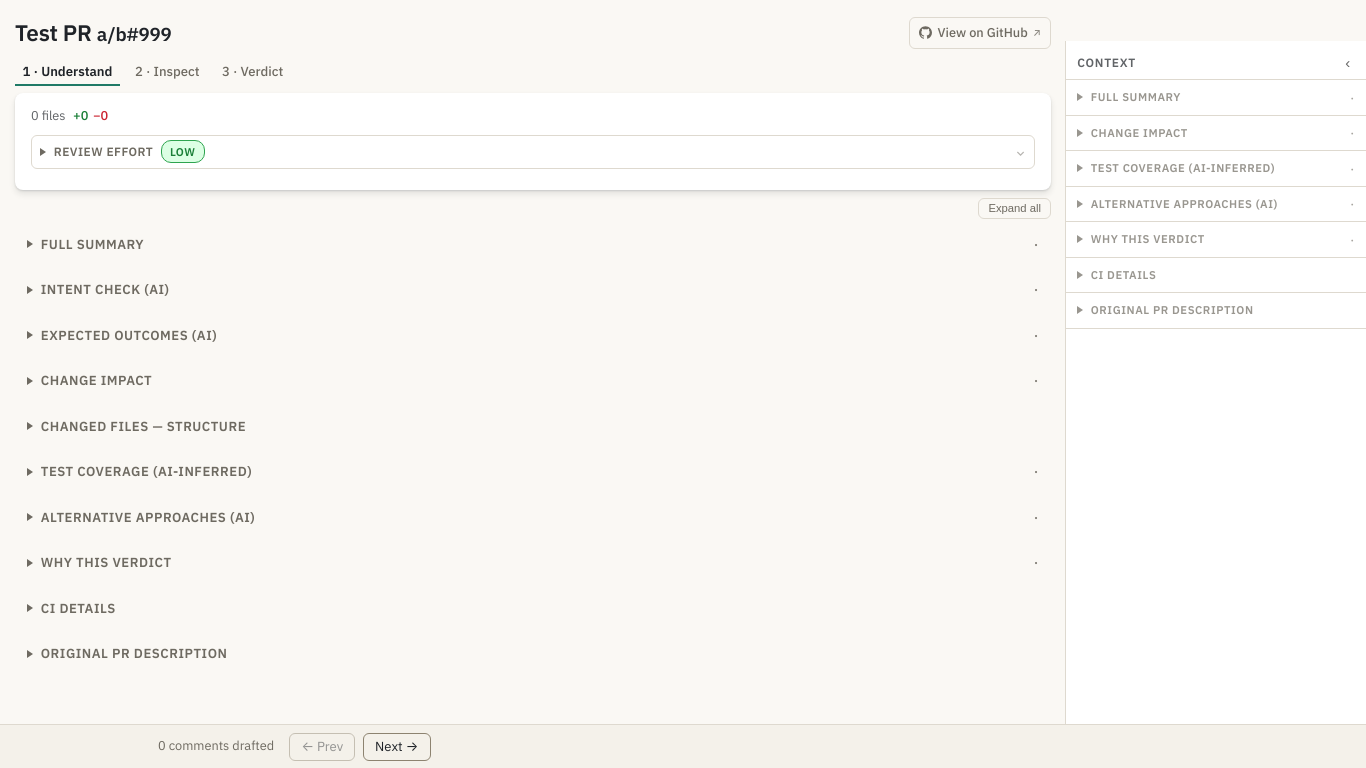
Scenario: Review — PR comments integration (EC-REVIEW-COMM) › shows comment failure note when comments fetch fails (silent degradation)
Check: the message "0 comments drafted" is shown, box [158,736,274,757]
# Navigate to step 2
Click the button with aria-label "next step" at (397, 746), box [363,732,430,760]
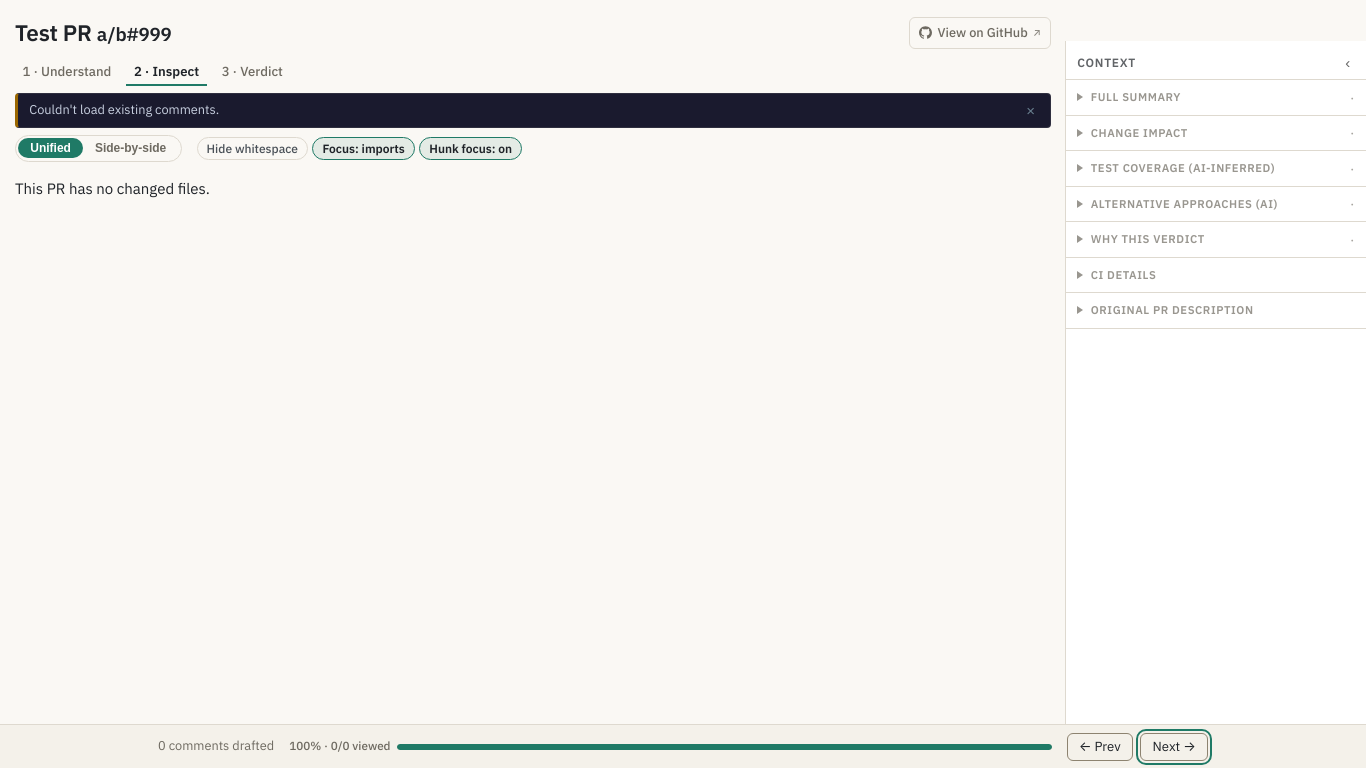
Check: the text "Couldn't load existing comments. ×" is shown, box [15,93,1051,128]
